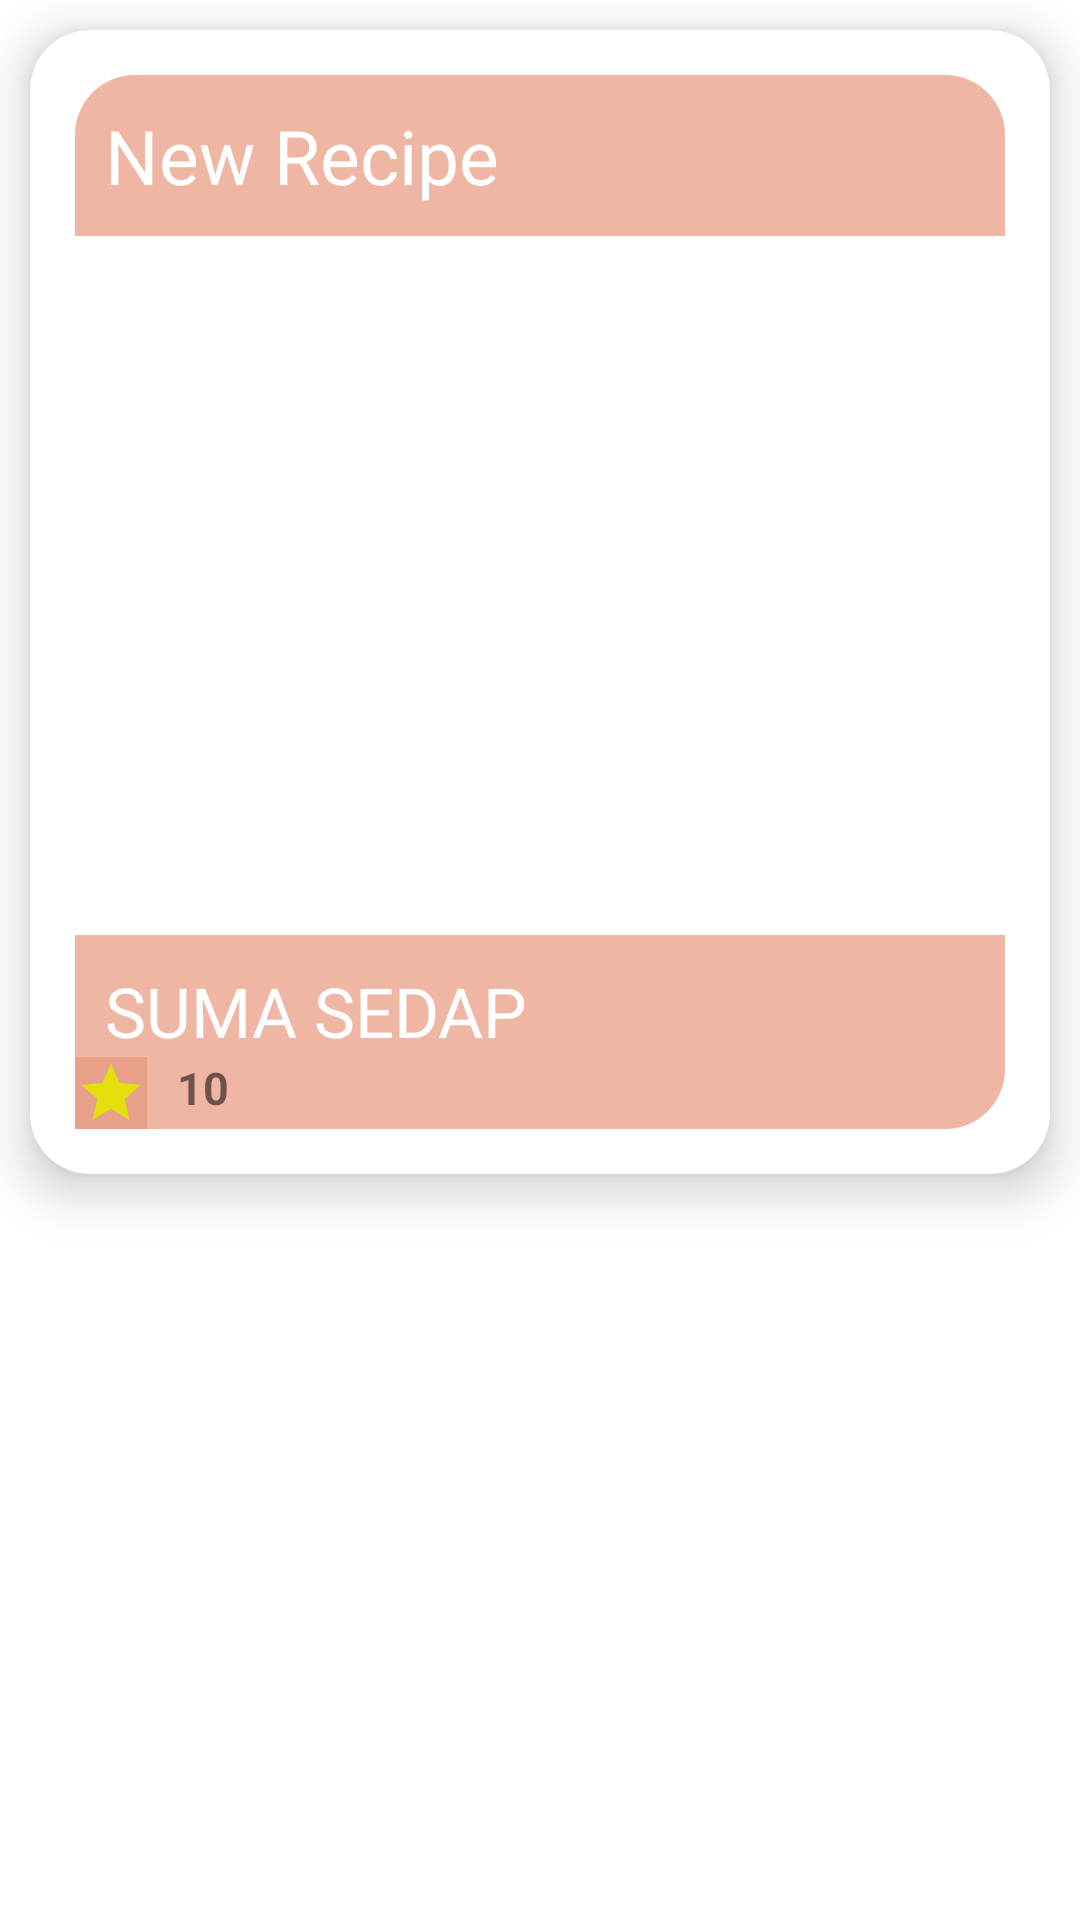

Named icons in this screenshot (1080px x 1920px) and their centers, [x,y]:
star: [111,1093]
